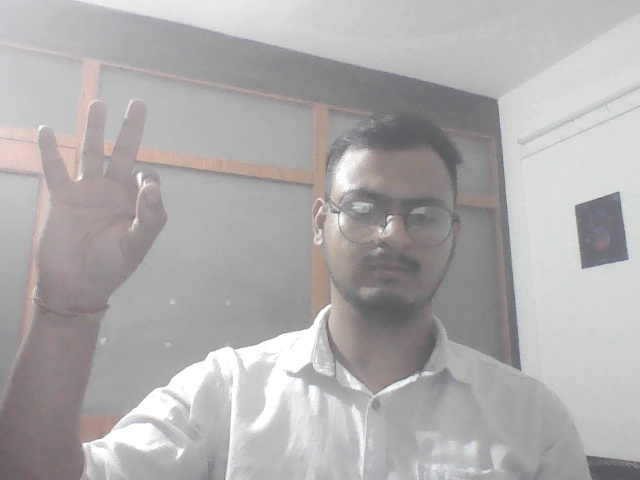OK: (28, 96, 172, 313)
